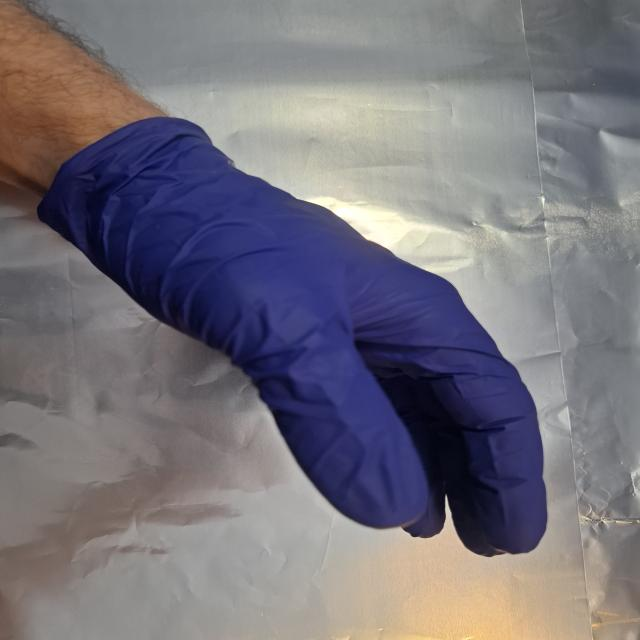glove_on: (61, 123, 555, 555)
